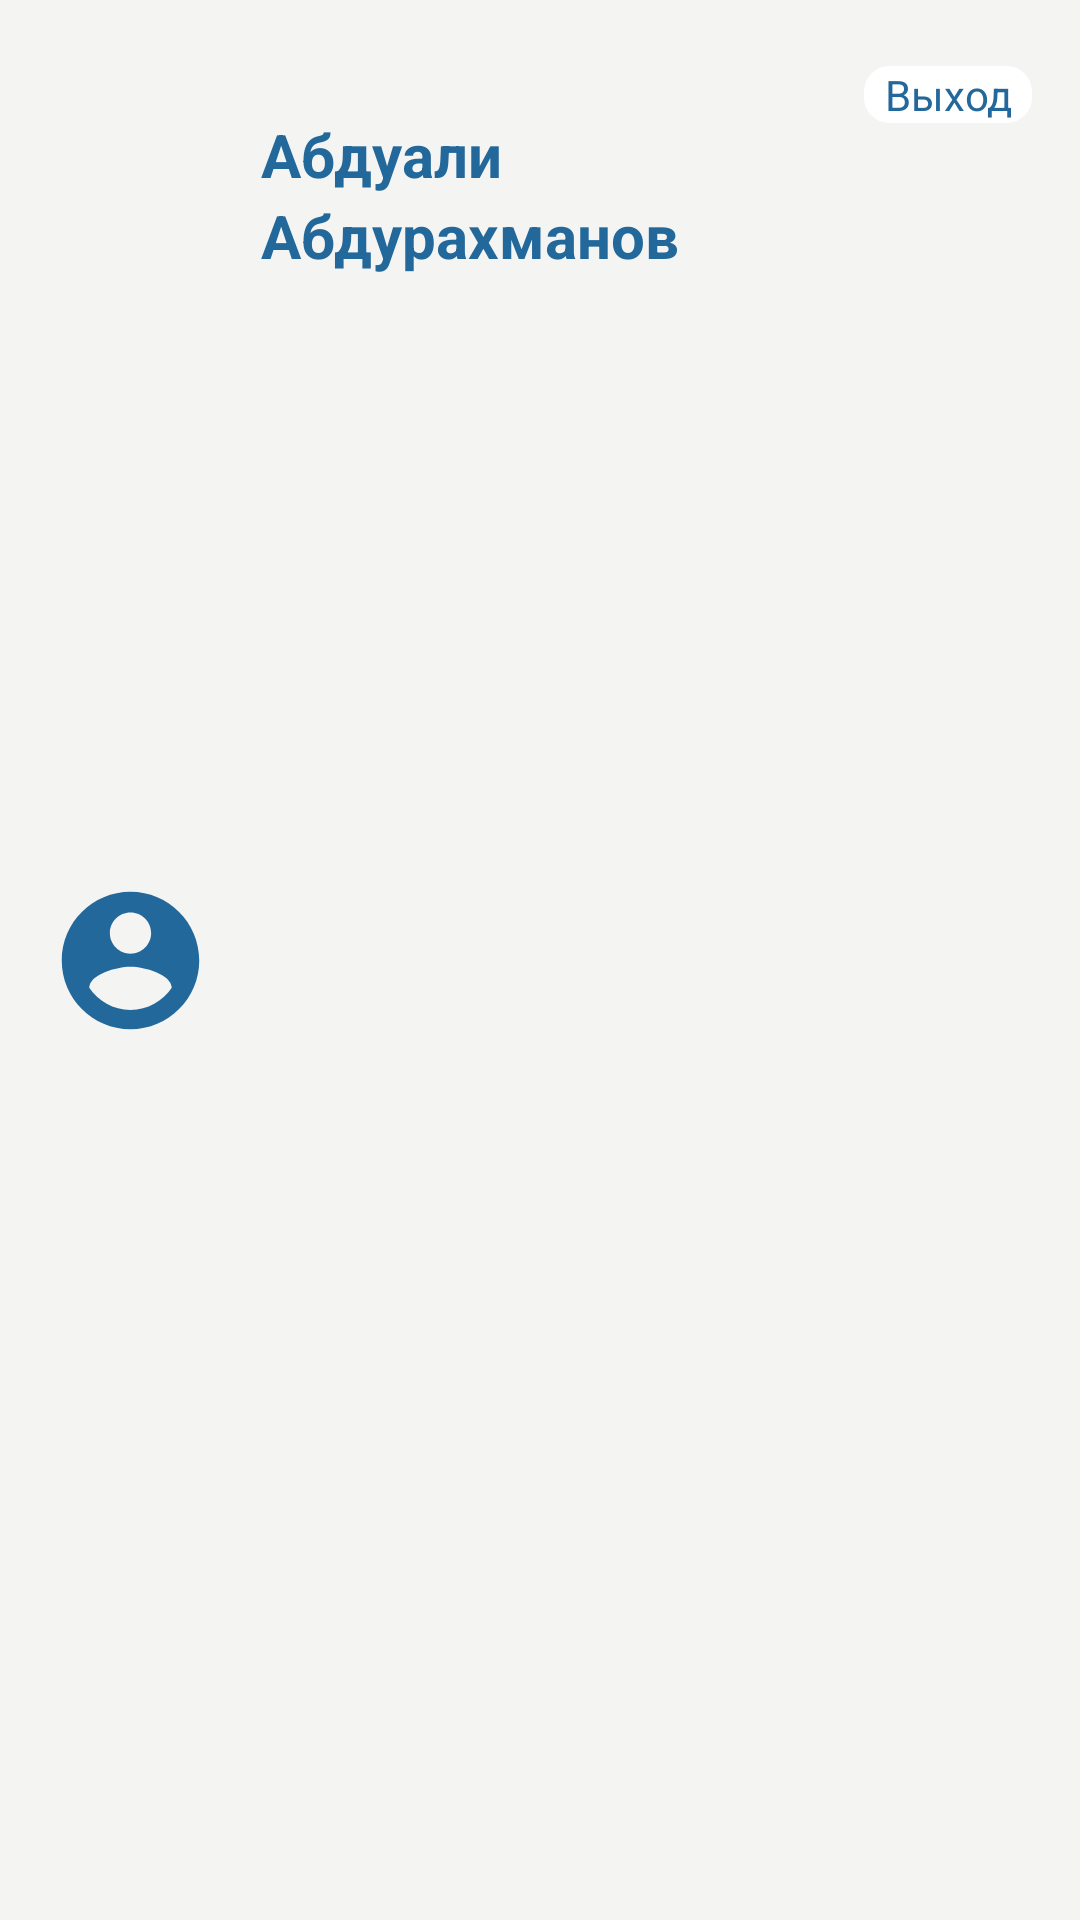

Screen size 1080*1920. Icon name, then its center in pixels as (x=x, y=y):
account circle: (x=130, y=960)
